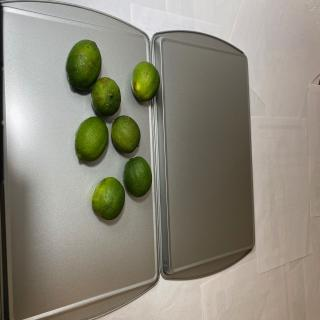Chilli: (64, 38, 160, 221)
Lemon: (65, 39, 102, 91), (74, 116, 109, 162), (92, 177, 125, 220), (123, 156, 152, 198), (91, 76, 121, 116), (110, 115, 140, 154), (131, 61, 160, 101)
